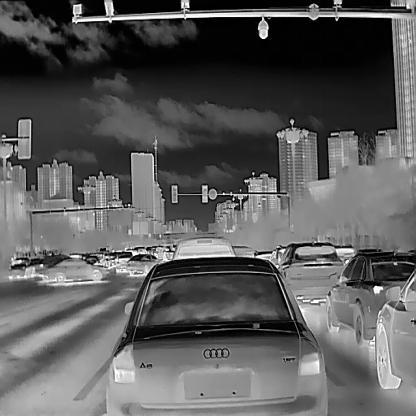car: (105, 256, 326, 415), (326, 247, 414, 347), (374, 272, 415, 390), (275, 241, 345, 293), (40, 257, 110, 281), (170, 235, 236, 258), (125, 252, 166, 274), (8, 256, 31, 277)
